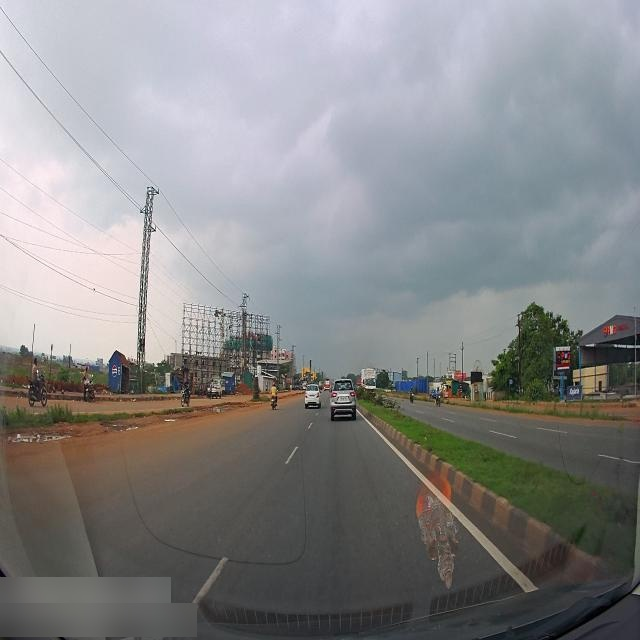pothole: (8, 421, 80, 449), (104, 408, 152, 438), (160, 405, 202, 428)
